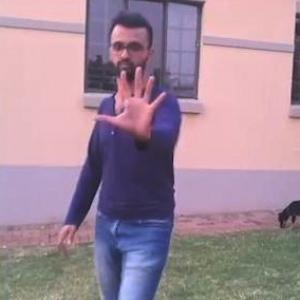follow_hand: (92, 62, 171, 138)
